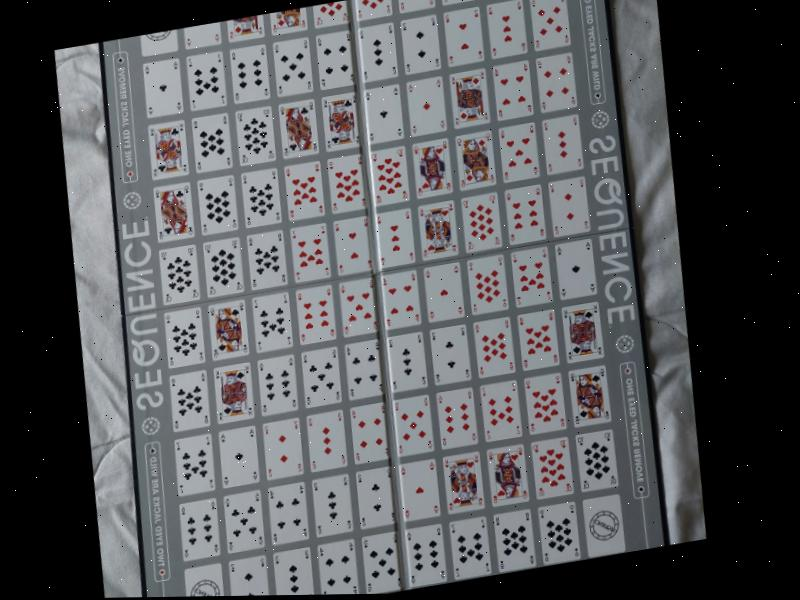Board: (89, 0, 675, 597)
